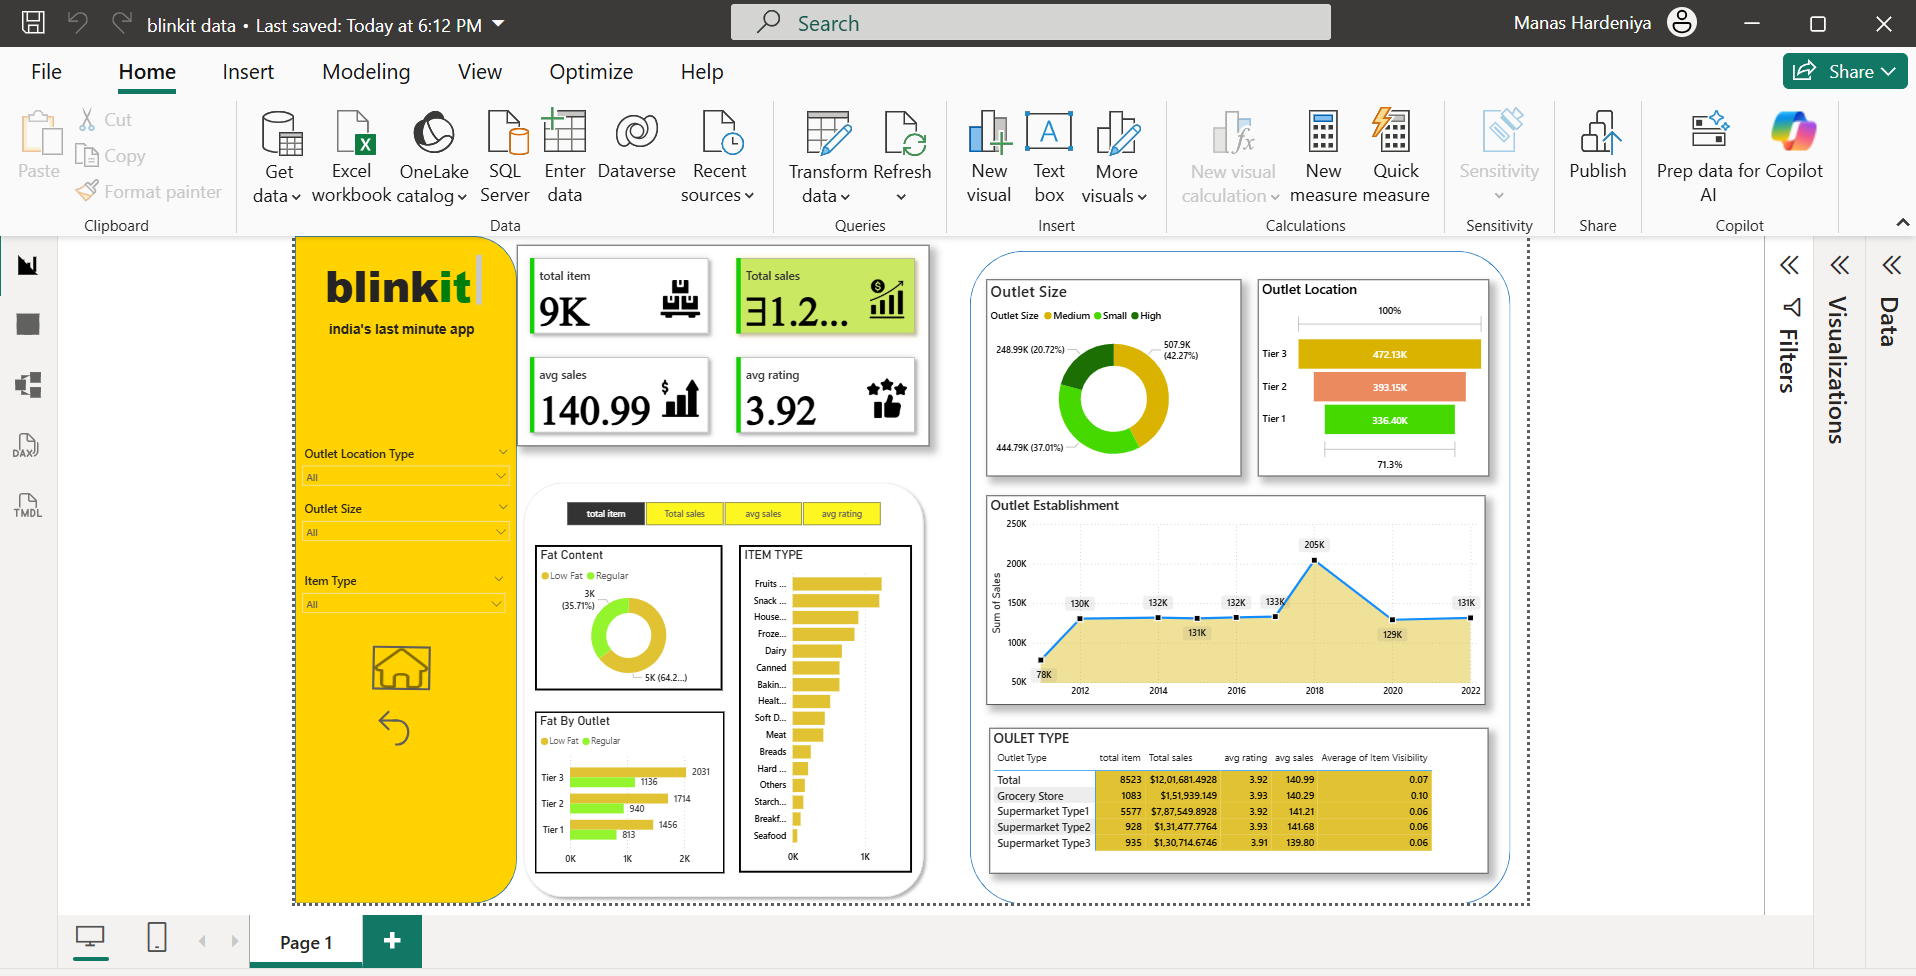

This screenshot's page, from the dashboard's own definition file:
{"tool":"powerbi","page":{"name":"Page 1","canvas":[1700,920],"ordinal":0},"visuals":[{"type":"shape","box":[0,0,306.2,920.7],"z":0},{"type":"textbox","box":[31,20.7,231.7,93.1],"z":1000},{"type":"textbox","box":[31,113.8,231.7,37.2],"z":2000},{"type":"cardVisual","fields":{"Data":["BlinkIT Grocery Data.total item","BlinkIT Grocery Data.Total sales","BlinkIT Grocery Data.avg sales","BlinkIT Grocery Data.avg rating"]},"box":[306.2,12.4,569,277.2],"z":3000},{"type":"shape","box":[306.2,331.3,569.7,589.8],"z":4000},{"type":"slicer","fields":{"Values":["Parameter.Parameter"]},"box":[349.7,360,482.1,45.5],"z":5000},{"type":"donutChart","title":"Fat Content","fields":{"Y":["BlinkIT Grocery Data.total item"],"Category":["BlinkIT Grocery Data.Item Fat Content"]},"box":[331.3,426.7,258.5,200.8],"z":6000},{"type":"clusteredBarChart","title":"Fat By Outlet","fields":{"Y":["BlinkIT Grocery Data.total item"],"Series":["BlinkIT Grocery Data.Item Fat Content"],"Category":["BlinkIT Grocery Data.Outlet Location Type"]},"box":[331.3,655.1,261,223.4],"z":7000},{"type":"barChart","title":"ITEM TYPE","fields":{"Y":["BlinkIT Grocery Data.total item"],"Category":["BlinkIT Grocery Data.Item Type"]},"box":[612.4,426.7,238.4,451.8],"z":8000},{"type":"shape","box":[931.2,20.1,745.4,901],"z":9000},{"type":"donutChart","title":" Outlet Size","fields":{"Category":["BlinkIT Grocery Data.Outlet Size"],"Y":["Sum(BlinkIT Grocery Data.Sales)"]},"box":[953.7,60.2,351.4,271.1],"z":10000},{"type":"funnel","title":"Outlet Location","fields":{"Category":["BlinkIT Grocery Data.Outlet Location Type"],"Y":["Sum(BlinkIT Grocery Data.Sales)"]},"box":[1327.7,60.2,318.8,271.1],"z":11000},{"type":"lineChart","title":"Outlet Establishment","fields":{"Category":["BlinkIT Grocery Data.Outlet Establishment Year"],"Y":["Sum(BlinkIT Grocery Data.Sales)"]},"box":[953.7,358.9,687.7,288.6],"z":12000},{"type":"pivotTable","title":"OULET TYPE","fields":{"Rows":["BlinkIT Grocery Data.Outlet Type"],"Values":["BlinkIT Grocery Data.total item","BlinkIT Grocery Data.Total sales","BlinkIT Grocery Data.avg rating","BlinkIT Grocery Data.avg sales","Avg(BlinkIT Grocery Data.Item Visibility)"]},"box":[958.8,677.7,687.7,200.8],"z":13000},{"type":"slicer","fields":{"Values":["BlinkIT Grocery Data.Outlet Location Type"]},"box":[0,283.5,306.2,74.5],"z":14000},{"type":"slicer","fields":{"Values":["BlinkIT Grocery Data.Outlet Size"]},"box":[0,360,306.2,80.7],"z":15000},{"type":"slicer","fields":{"Values":["BlinkIT Grocery Data.Item Type"]},"box":[0,459.3,300,64.1],"z":16000},{"type":"actionButton","box":[105.5,564.8,82.8,62.1],"z":17000},{"type":"actionButton","box":[105.5,647.6,82.8,62.1],"z":18000}]}

Visuals, with their boxes on the page's 1700x920 design canvas (x1, y1, x2, y2). These are canvas units, not pixel positions in the 1916x976 screenshot, which may show the page scaled, cropped or inside an application window:
shape: [0,0,306,921]
textbox: [31,21,263,114]
textbox: [31,114,263,151]
cardVisual - BlinkIT Grocery Data.total item x BlinkIT Grocery Data.Total sales: [306,12,875,290]
shape: [306,331,876,921]
slicer - Parameter.Parameter: [350,360,832,406]
"Fat Content" donutChart: [331,427,590,628]
"Fat By Outlet" clusteredBarChart: [331,655,592,878]
"ITEM TYPE" barChart: [612,427,851,878]
shape: [931,20,1677,921]
" Outlet Size" donutChart: [954,60,1305,331]
"Outlet Location" funnel: [1328,60,1646,331]
"Outlet Establishment" lineChart: [954,359,1641,648]
"OULET TYPE" pivotTable: [959,678,1646,878]
slicer - BlinkIT Grocery Data.Outlet Location Type: [0,284,306,358]
slicer - BlinkIT Grocery Data.Outlet Size: [0,360,306,441]
slicer - BlinkIT Grocery Data.Item Type: [0,459,300,523]
actionButton: [106,565,188,627]
actionButton: [106,648,188,710]
